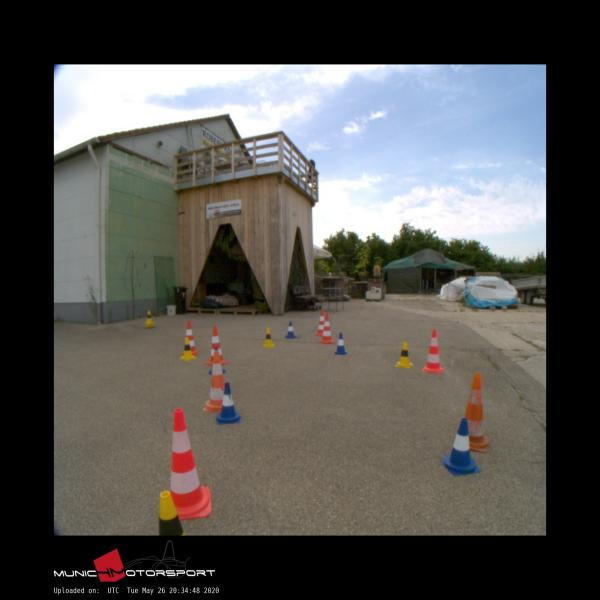blue_cone: (440, 418, 480, 476), (216, 381, 239, 423), (334, 333, 347, 353), (284, 321, 296, 338)
large_orange_cone: (161, 408, 210, 518), (460, 372, 488, 452), (203, 350, 228, 410), (422, 329, 443, 372), (205, 326, 227, 363), (182, 320, 198, 354), (318, 314, 334, 342), (315, 309, 326, 335)
yellow_cone: (158, 492, 185, 536), (395, 341, 413, 368), (179, 337, 196, 359), (262, 328, 273, 347), (145, 310, 153, 322)
